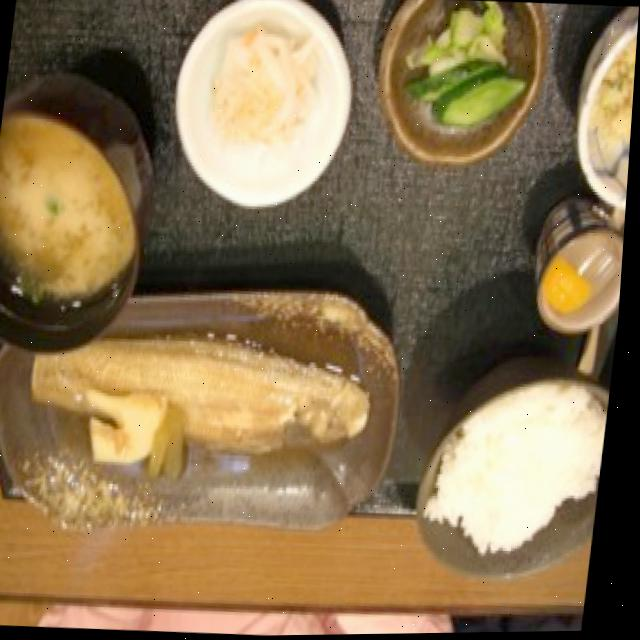熟制海鲜: (9, 298, 408, 514)
